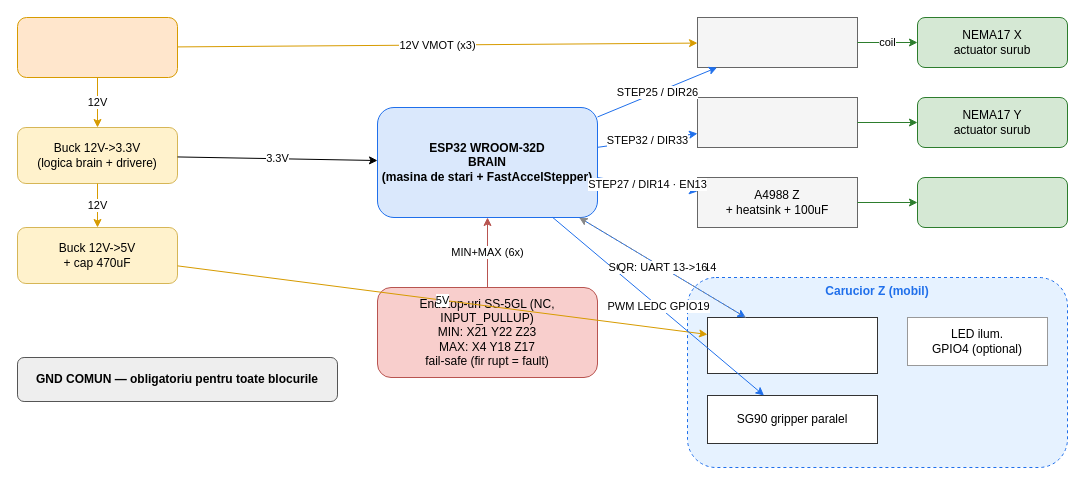
This 1085x485 diagram has some shape labels left out. Each missing label, with the centre of its shape:
"A4988 X + heatsink + 100uF" belongs at (777,42).
"A4988 Y + heatsink + 100uF" belongs at (777,122).
"ESP32-CAM OV2640 + decode QR (quirc)" belongs at (792,345).
"NEMA17 Z actuator surub" belongs at (992,202).
"PSU 12V 6-8A + siguranta 5A" belongs at (97,47).
